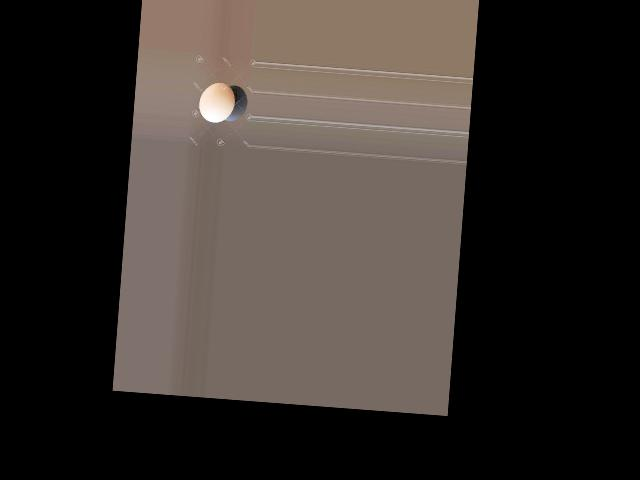egg: (198, 81, 236, 124)
